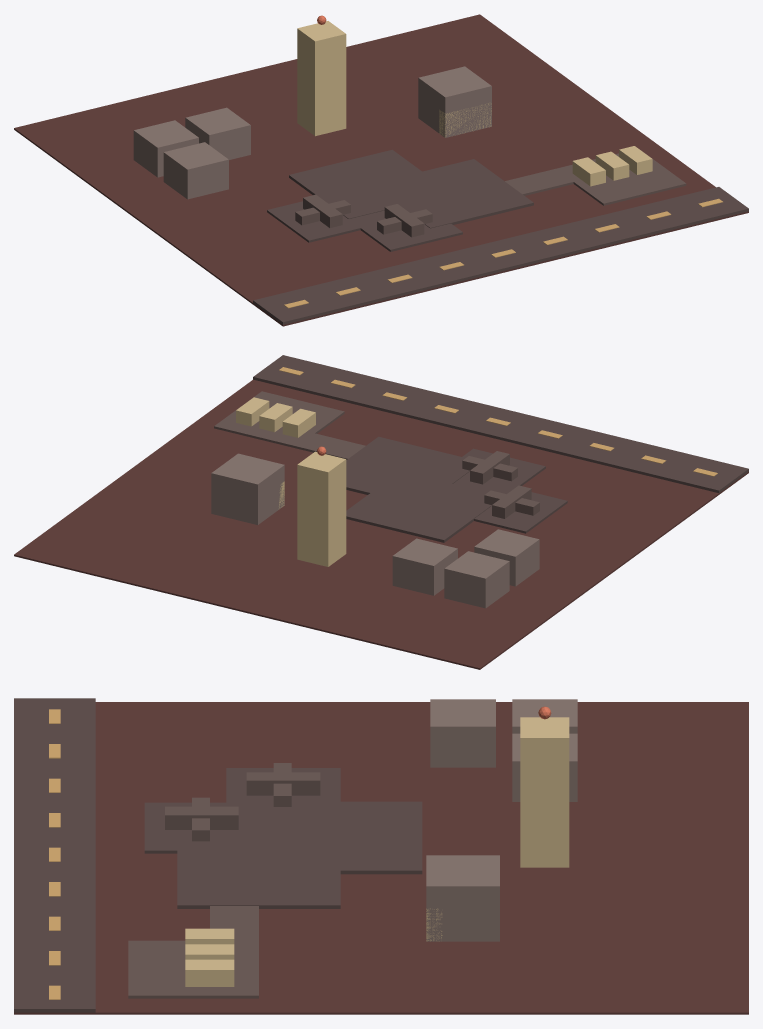
Rendered from stage_11.glb.
3 views of the same model, one above another, from view 1: azimuth 30°, elevation 25°; view 2: azimuth 150°, elevation 25°; view 3: azimuth 270°, elevation 25° (orthographic). The views are drawn at different scales.
Visible parts, largest first — view 1: geometry_0; view 2: geometry_0; view 3: geometry_0.
Part boxes in pixels (x1,y1,x2,y2): geometry_0: [14, 14, 748, 326]; geometry_0: [14, 355, 748, 669]; geometry_0: [14, 698, 748, 1014].
Size of the model in its own units: 9 by 2.06 by 9.
